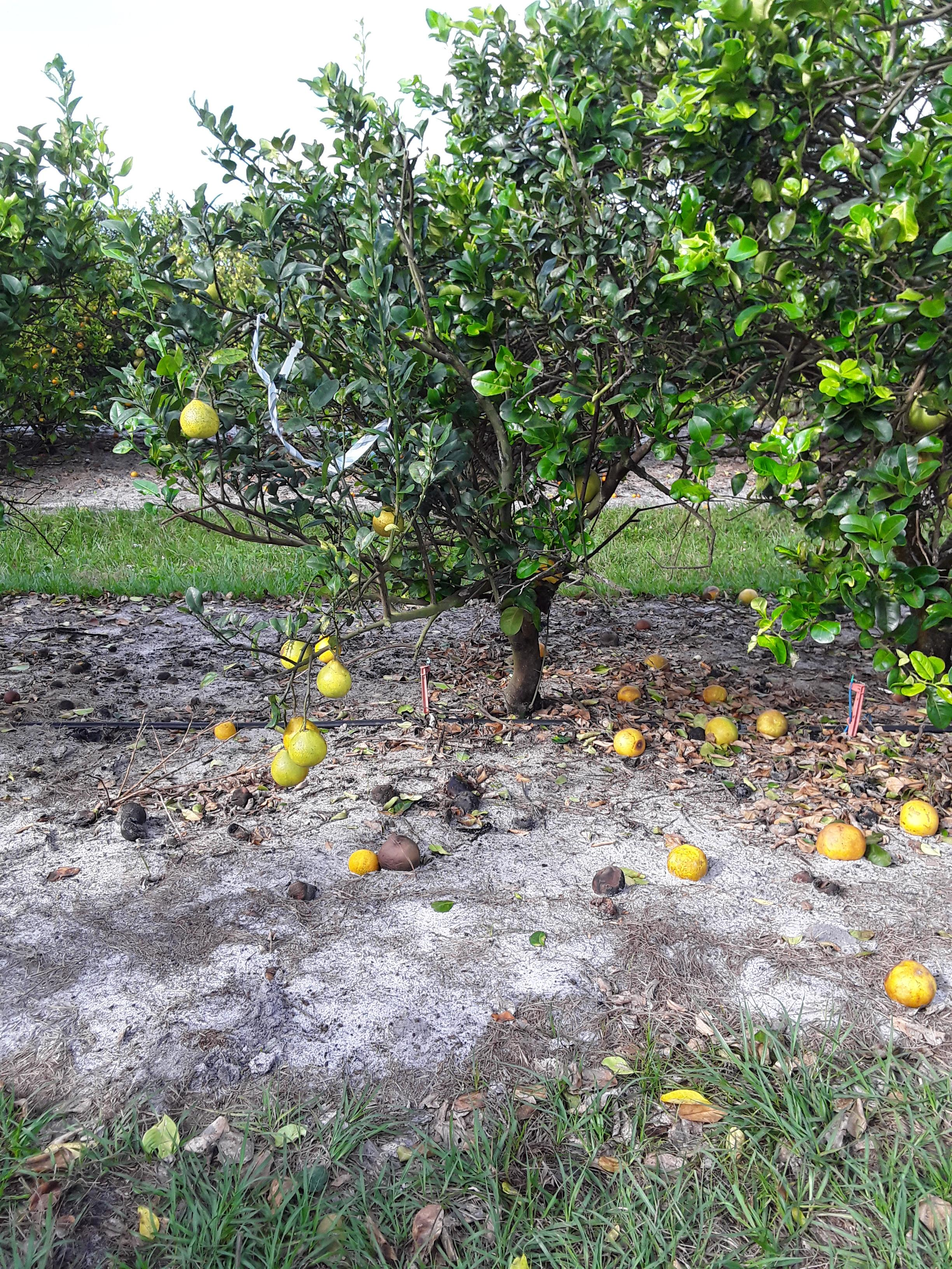fruit_on_ground: (177, 395, 224, 445), (560, 461, 604, 502), (285, 729, 330, 765), (315, 659, 355, 699), (522, 554, 567, 589), (270, 748, 308, 789), (276, 634, 314, 674), (912, 387, 944, 429), (281, 714, 319, 748), (192, 273, 226, 309), (370, 498, 400, 538), (312, 634, 341, 663), (133, 345, 148, 359), (131, 358, 145, 369), (75, 339, 87, 350), (109, 306, 120, 317), (51, 374, 62, 384), (67, 388, 78, 398), (49, 345, 60, 355), (31, 361, 41, 369)
fruit_on_tree: (885, 956, 935, 1020), (817, 815, 866, 871), (668, 838, 710, 888), (902, 793, 940, 842), (380, 829, 422, 873), (346, 840, 381, 882), (612, 725, 646, 763), (593, 865, 625, 903), (756, 705, 789, 741), (704, 719, 737, 755), (119, 798, 149, 828), (452, 790, 484, 816), (117, 818, 150, 842), (210, 716, 236, 745), (371, 779, 401, 804), (290, 878, 316, 906), (644, 651, 676, 673), (701, 685, 727, 711), (448, 775, 478, 797), (227, 786, 254, 809), (618, 682, 640, 708), (738, 587, 759, 611), (599, 631, 623, 647), (689, 723, 709, 742), (706, 664, 728, 681), (2, 685, 18, 703), (637, 617, 652, 636), (704, 584, 720, 601), (537, 641, 552, 659), (240, 667, 259, 681), (57, 699, 76, 713), (180, 655, 198, 669), (35, 645, 51, 657), (113, 667, 132, 677), (156, 670, 175, 680), (105, 643, 122, 654), (69, 664, 86, 675), (48, 679, 63, 690), (128, 469, 139, 479)
